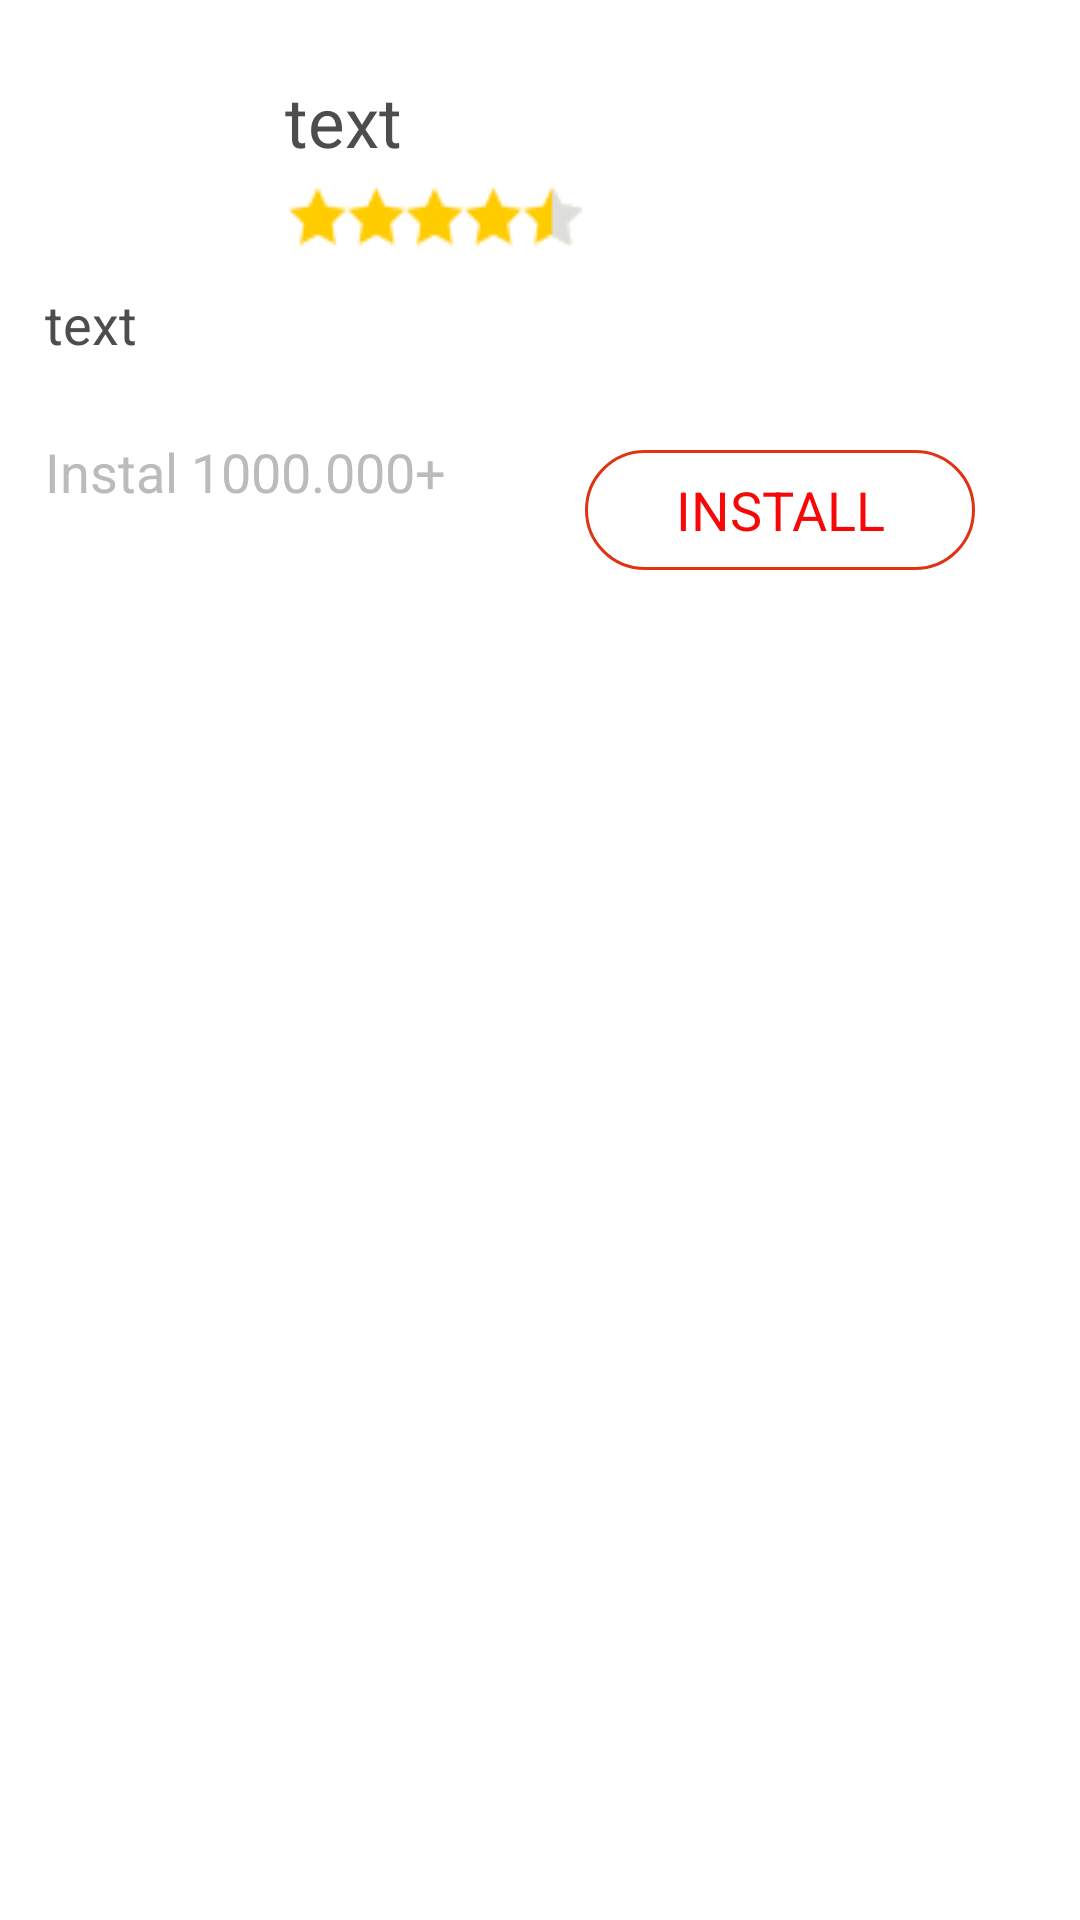

Point at icon controls on the screen. Image size 1080 x 1920, points as (x=x, y=y).
iconstar: (x=435, y=217)
